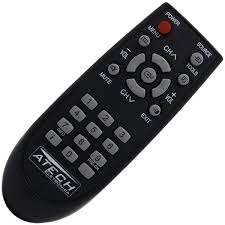remote control: (0, 5, 225, 225)
